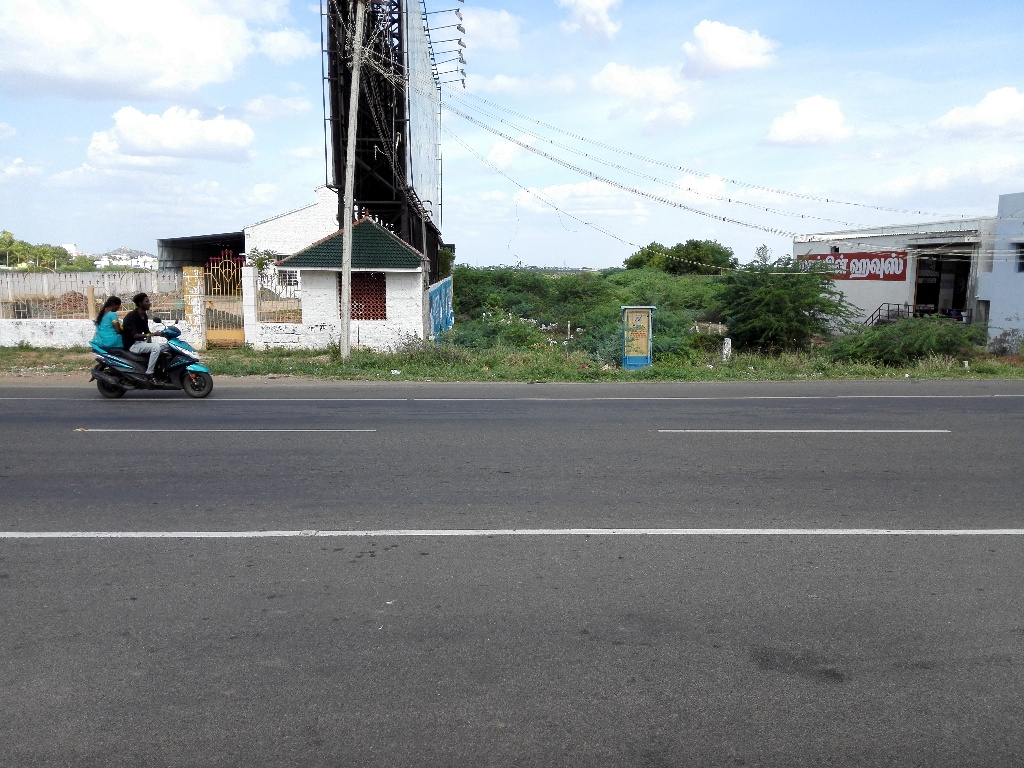biker: (73, 260, 230, 410)
nohelmet: (95, 288, 129, 325), (130, 288, 157, 321)
